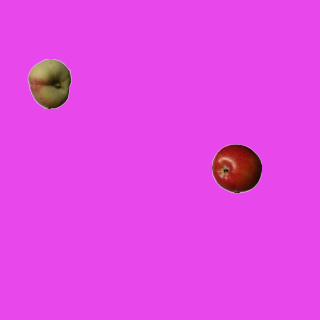Apple Braeburn: (211, 143, 261, 193)
Peach Flat: (24, 58, 74, 108)
